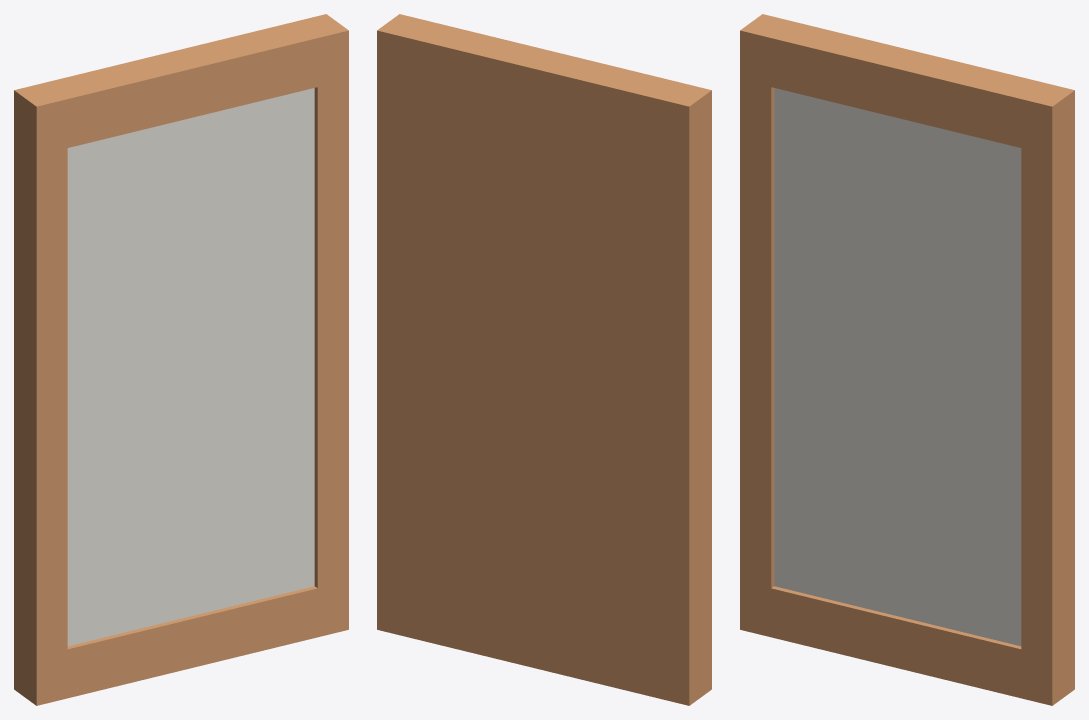
File: testeira.fbx
3 views of the same model, side by side, from view 1: azimuth 30°, elevation 25°; view 2: azimuth 150°, elevation 25°; view 3: azimuth 330°, elevation 25° (orthographic).
Visible parts, largest first — view 1: testeira; view 2: testeira; view 3: testeira.
Boxes of the visible parts, x1=… form: testeira: x1=14, y1=14, x2=348, y2=705; testeira: x1=377, y1=14, x2=711, y2=705; testeira: x1=740, y1=14, x2=1074, y2=705.
Size of the model in its own units: 120 by 220 by 15.
